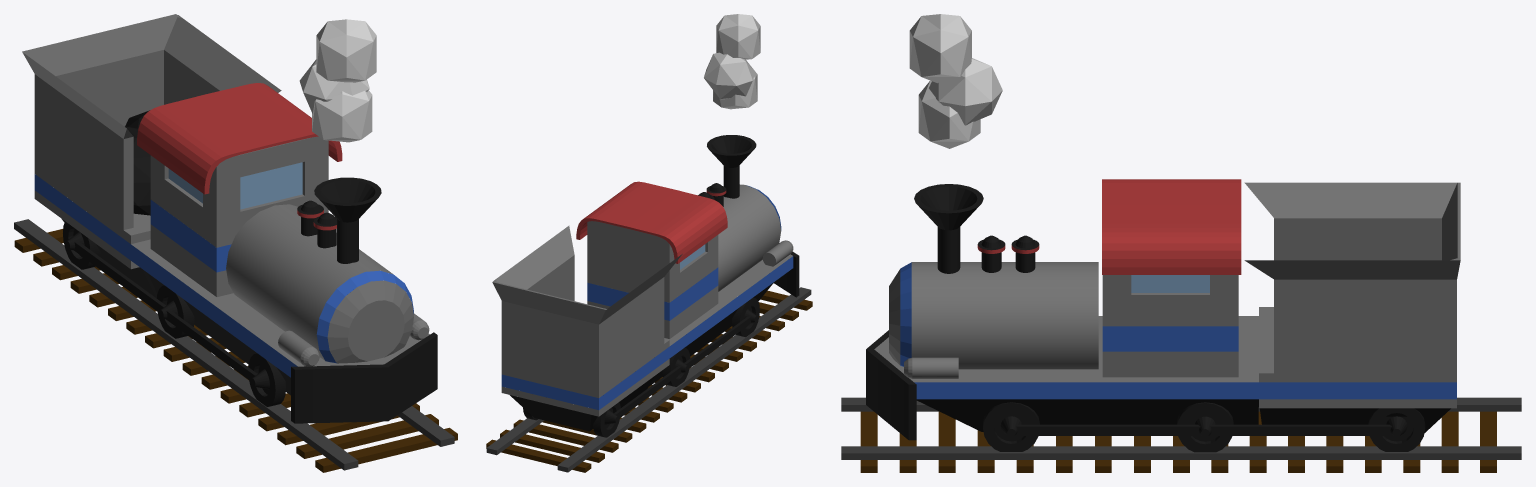
The model's file is train.glb.
3 views of the same model, side by side, from view 1: azimuth 30°, elevation 25°; view 2: azimuth 150°, elevation 25°; view 3: azimuth 270°, elevation 25° (orthographic). The views are drawn at different scales.
Visible parts, largest first — view 1: GeoSphere002; view 2: GeoSphere002; view 3: GeoSphere002.
Boxes of the visible parts, box(x1,y1,x2,y2) form: GeoSphere002: box(14, 14, 457, 472); GeoSphere002: box(486, 14, 812, 472); GeoSphere002: box(841, 14, 1521, 472).
Bounding box in the file's own units: 2.18 × 5.48 × 8.
